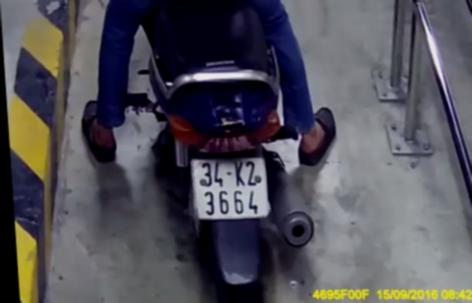License_Plate: (187, 155, 278, 221)
